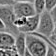cell: (31, 44, 44, 56), (2, 10, 13, 21), (21, 5, 32, 15), (40, 17, 50, 28), (1, 34, 9, 45), (35, 1, 44, 10)
